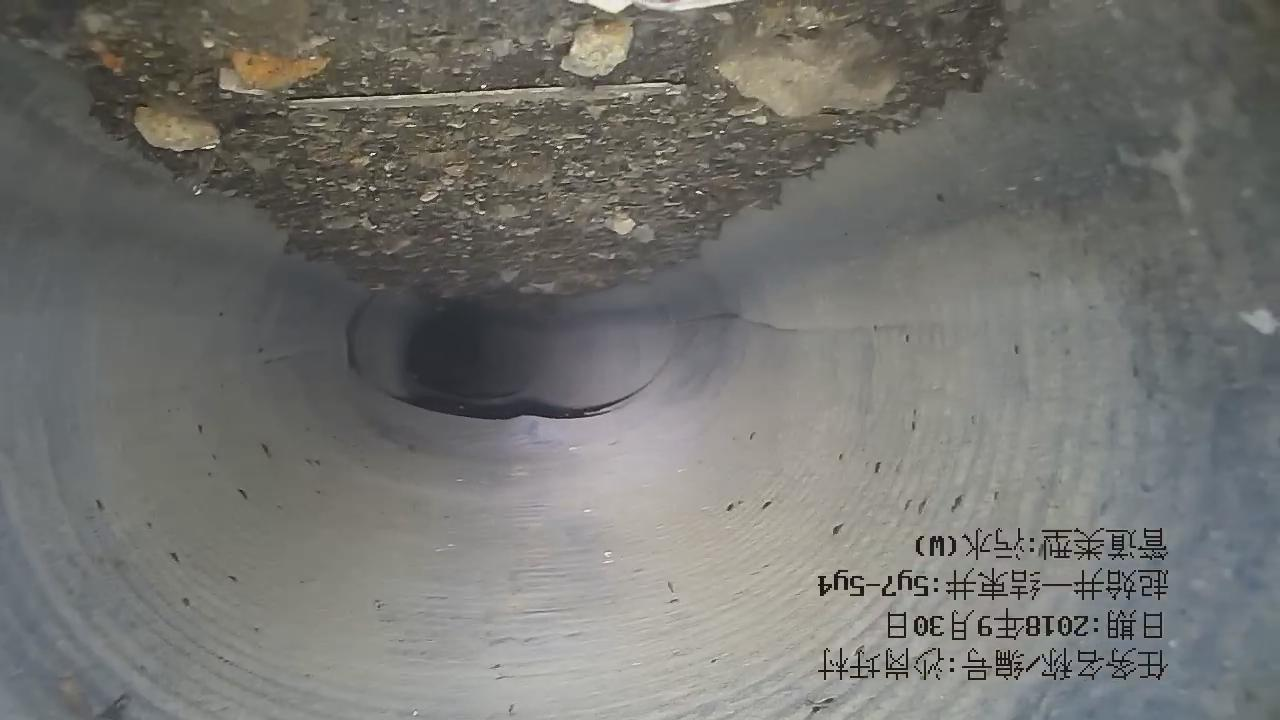BX: (347, 356, 622, 451)
CJ: (1, 1, 1007, 299)
